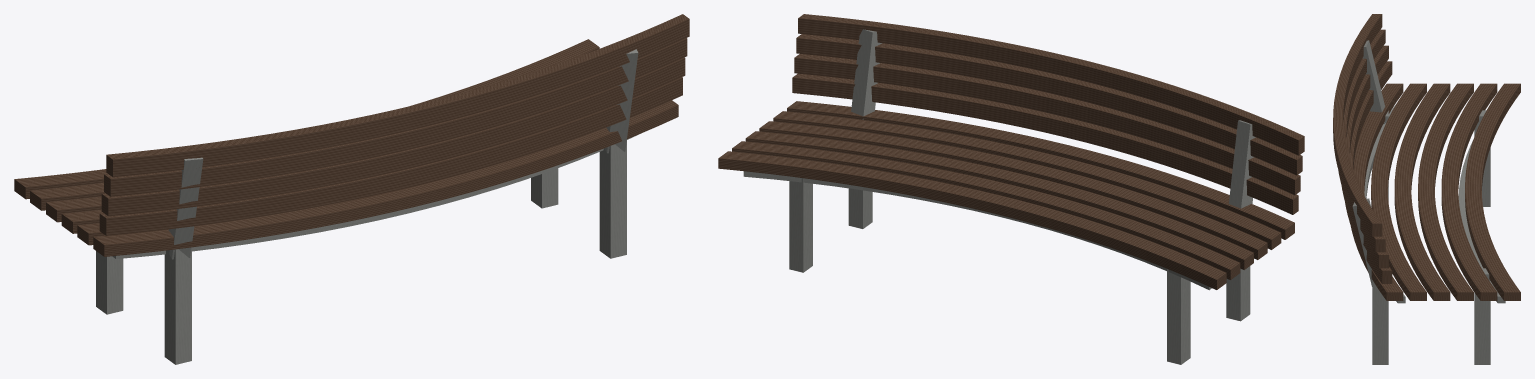
The picture shows the model from 3 angles, left to right: view 1: azimuth 30°, elevation 25°; view 2: azimuth 150°, elevation 25°; view 3: azimuth 270°, elevation 25°; orthographic projection. The views are drawn at different scales.
Parts seen in each view (by area): view 1: VIS_CurvedBackSlat_3, VIS_CurvedSeatSlat_5, VIS_CurvedBackSlat_0, VIS_CurvedBackSlat_1, VIS_CurvedBackSlat_2, VIS_ArcLeg_-1_0.24, VIS_ArcLeg_1_0.24, VIS_CurvedSeatSlat_0, VIS_CurvedFrameRail_0.23, VIS_ArcLeg_-1_-0.23, VIS_BackSupport_-1, VIS_CurvedSeatSlat_1 (+4 smaller); view 2: VIS_CurvedBackSlat_3, VIS_CurvedSeatSlat_0, VIS_CurvedBackSlat_2, VIS_CurvedBackSlat_1, VIS_CurvedBackSlat_0, VIS_CurvedSeatSlat_4, VIS_CurvedSeatSlat_3, VIS_CurvedSeatSlat_1, VIS_CurvedSeatSlat_2, VIS_CurvedSeatSlat_5, VIS_ArcLeg_1_-0.23, VIS_ArcLeg_-1_-0.23 (+5 smaller); view 3: VIS_CurvedSeatSlat_3, VIS_CurvedSeatSlat_1, VIS_CurvedSeatSlat_2, VIS_CurvedSeatSlat_0, VIS_CurvedSeatSlat_4, VIS_CurvedBackSlat_3, VIS_CurvedSeatSlat_5, VIS_CurvedBackSlat_1, VIS_CurvedBackSlat_2, VIS_CurvedBackSlat_0, VIS_ArcLeg_1_0.24, VIS_ArcLeg_1_-0.23 (+5 smaller).
Boxes of the visible parts, box(x1,y1,x2,y2) form: VIS_CurvedBackSlat_3: box(106, 14, 689, 177); VIS_CurvedSeatSlat_5: box(93, 100, 678, 256); VIS_CurvedBackSlat_0: box(99, 77, 682, 235); VIS_CurvedBackSlat_1: box(101, 57, 685, 216); VIS_CurvedBackSlat_2: box(104, 38, 687, 196); VIS_ArcLeg_-1_0.24: box(164, 247, 191, 364); VIS_ArcLeg_1_0.24: box(599, 140, 626, 258); VIS_CurvedSeatSlat_0: box(14, 39, 599, 199); VIS_CurvedFrameRail_0.23: box(112, 134, 638, 258); VIS_ArcLeg_-1_-0.23: box(96, 251, 123, 314); VIS_BackSupport_-1: box(168, 157, 203, 259); VIS_CurvedSeatSlat_1: box(30, 182, 105, 210); VIS_CurvedBackSlat_3: box(798, 14, 1304, 155); VIS_CurvedSeatSlat_0: box(718, 151, 1226, 289); VIS_CurvedBackSlat_2: box(796, 34, 1302, 175); VIS_CurvedBackSlat_1: box(794, 54, 1300, 195); VIS_CurvedBackSlat_0: box(792, 73, 1298, 214); VIS_CurvedSeatSlat_4: box(773, 111, 1281, 249); VIS_CurvedSeatSlat_3: box(759, 121, 1267, 259); VIS_CurvedSeatSlat_1: box(732, 141, 1240, 279); VIS_CurvedSeatSlat_2: box(745, 131, 1253, 269); VIS_CurvedSeatSlat_5: box(787, 101, 1294, 239); VIS_ArcLeg_1_-0.23: box(789, 178, 812, 272); VIS_ArcLeg_-1_-0.23: box(1167, 269, 1190, 364); VIS_CurvedSeatSlat_3: box(1394, 83, 1450, 300); VIS_CurvedSeatSlat_1: box(1441, 83, 1497, 300); VIS_CurvedSeatSlat_2: box(1418, 83, 1473, 300); VIS_CurvedSeatSlat_0: box(1465, 83, 1520, 300); VIS_CurvedSeatSlat_4: box(1371, 83, 1426, 300); VIS_CurvedBackSlat_3: box(1333, 14, 1382, 236); VIS_CurvedSeatSlat_5: box(1350, 83, 1403, 300); VIS_CurvedBackSlat_1: box(1341, 45, 1388, 268); VIS_CurvedBackSlat_2: box(1338, 29, 1385, 252); VIS_CurvedBackSlat_0: box(1345, 61, 1392, 283); VIS_ArcLeg_1_0.24: box(1372, 280, 1388, 364); VIS_ArcLeg_1_-0.23: box(1474, 268, 1490, 364).
Size of the model in its own units: 2.28 by 0.8335 by 0.8635.
Materials: 1 (1 with a texture image).
